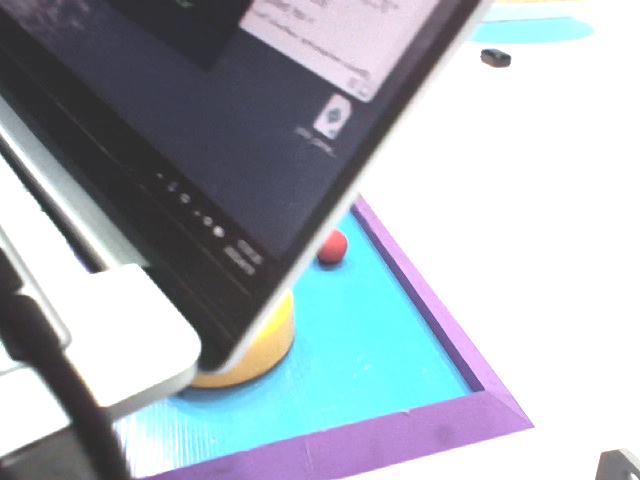black: (480, 45, 512, 68)
kuang: (56, 116, 542, 477)
red: (314, 229, 352, 270)
yellow: (156, 272, 302, 385)
